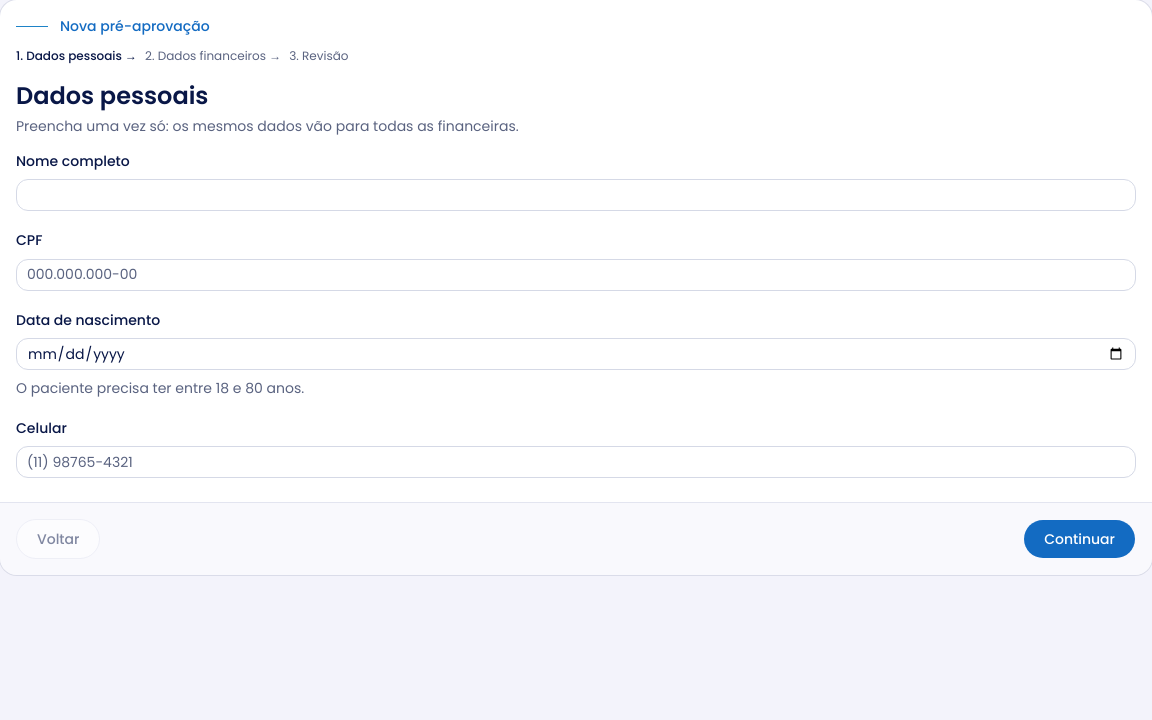
Scenario: RegistrationForm › does not move forward with invalid fields and does when they are valid
Click the button "Continuar". click: (1080, 539)
box: top-left (1023, 519), bottom-right (1136, 559)
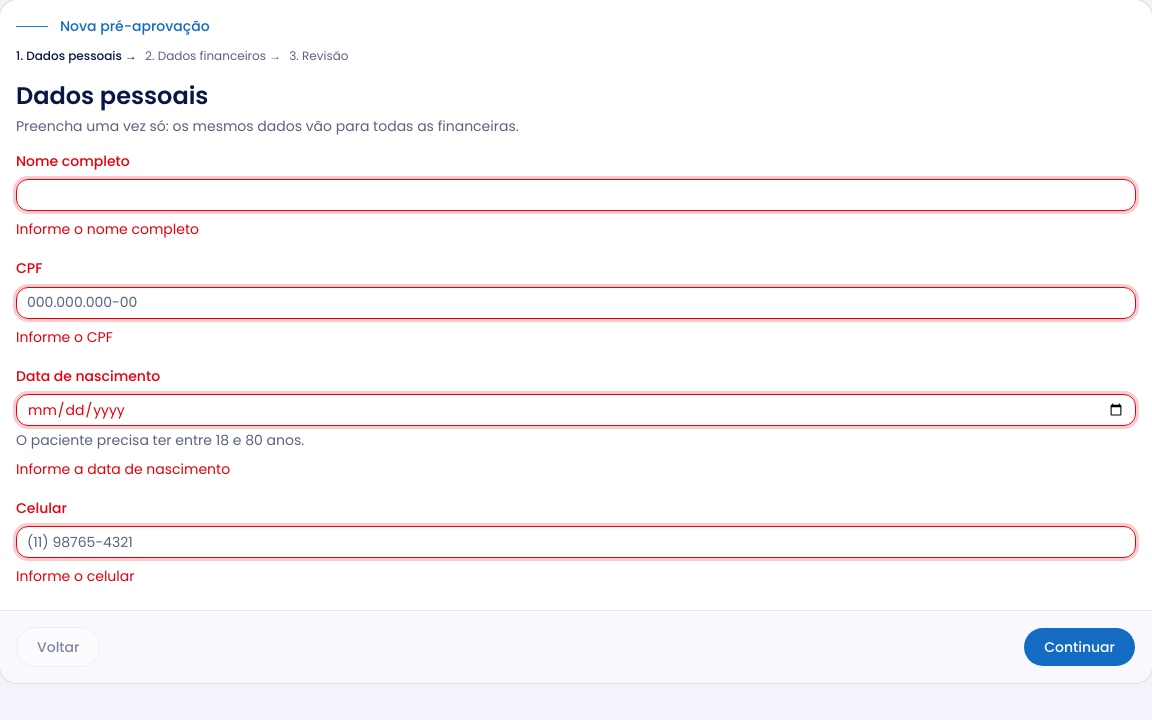
Expected: the heading "Dados pessoais" is shown, top-left (16, 79), bottom-right (208, 112)
Expected: the text "Informe o nome completo" is shown, top-left (16, 219), bottom-right (199, 239)
Type "Maria da Silva" into the field labelled "Nome completo". click: (576, 195)
box: top-left (16, 179), bottom-right (1136, 211)
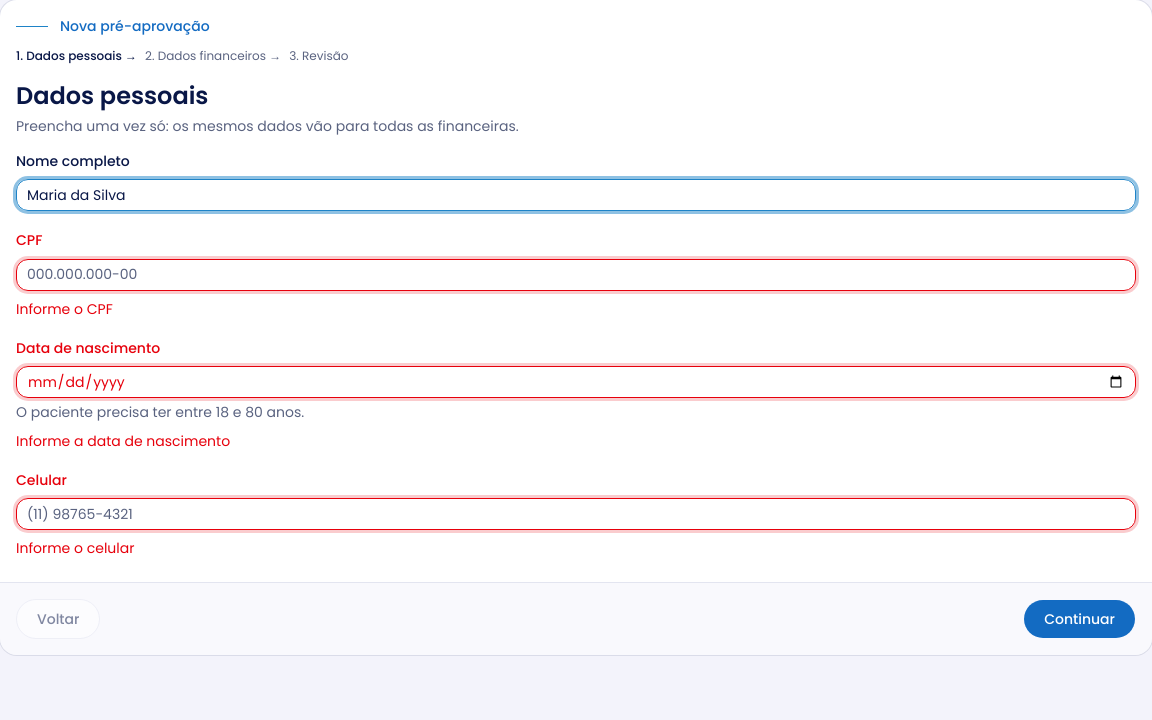
Type "52998224725" into the field labelled "CPF". click: (576, 274)
box: top-left (16, 258), bottom-right (1136, 290)
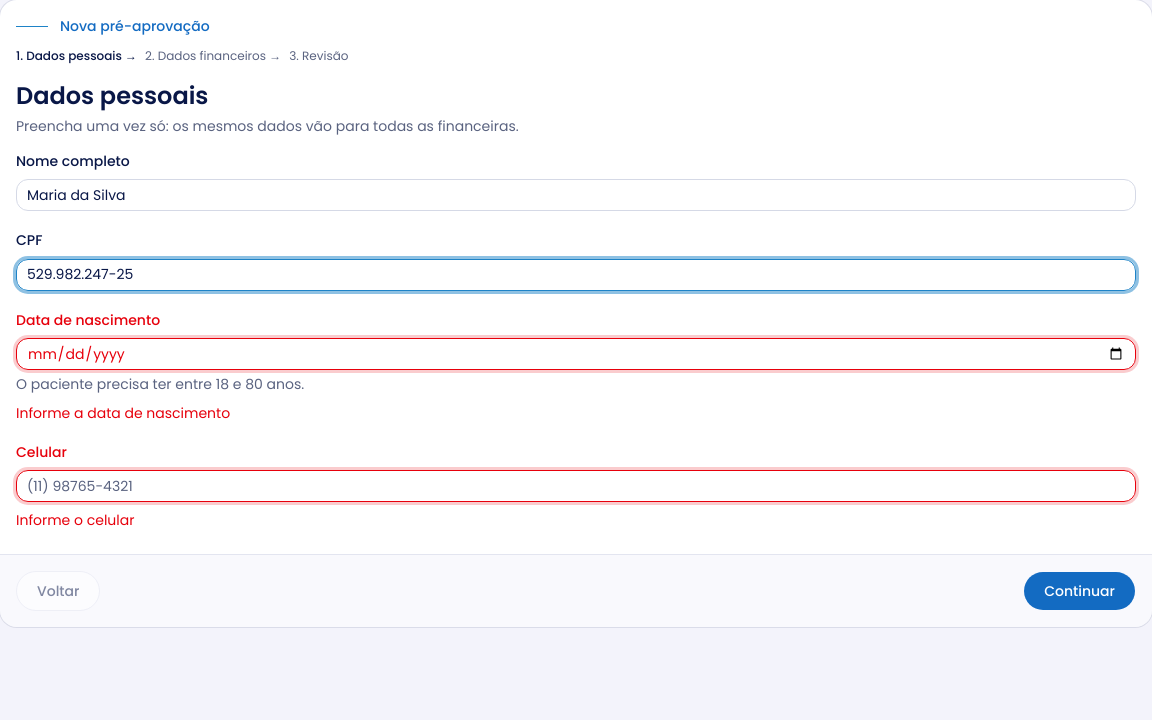
Type "1990-05-10" into the date field labelled "Data de nascimento". click: (576, 354)
box: top-left (16, 338), bottom-right (1136, 370)
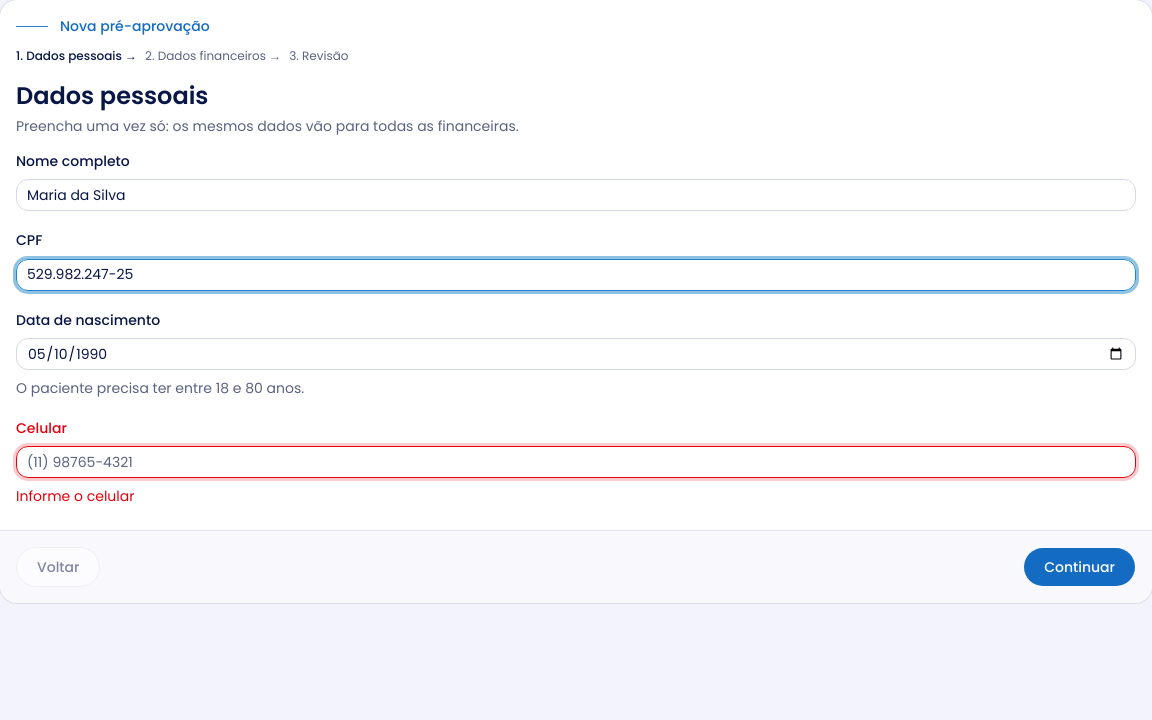
Type "11987654321" into the field labelled "Celular". click: (576, 462)
box: top-left (16, 446), bottom-right (1136, 478)
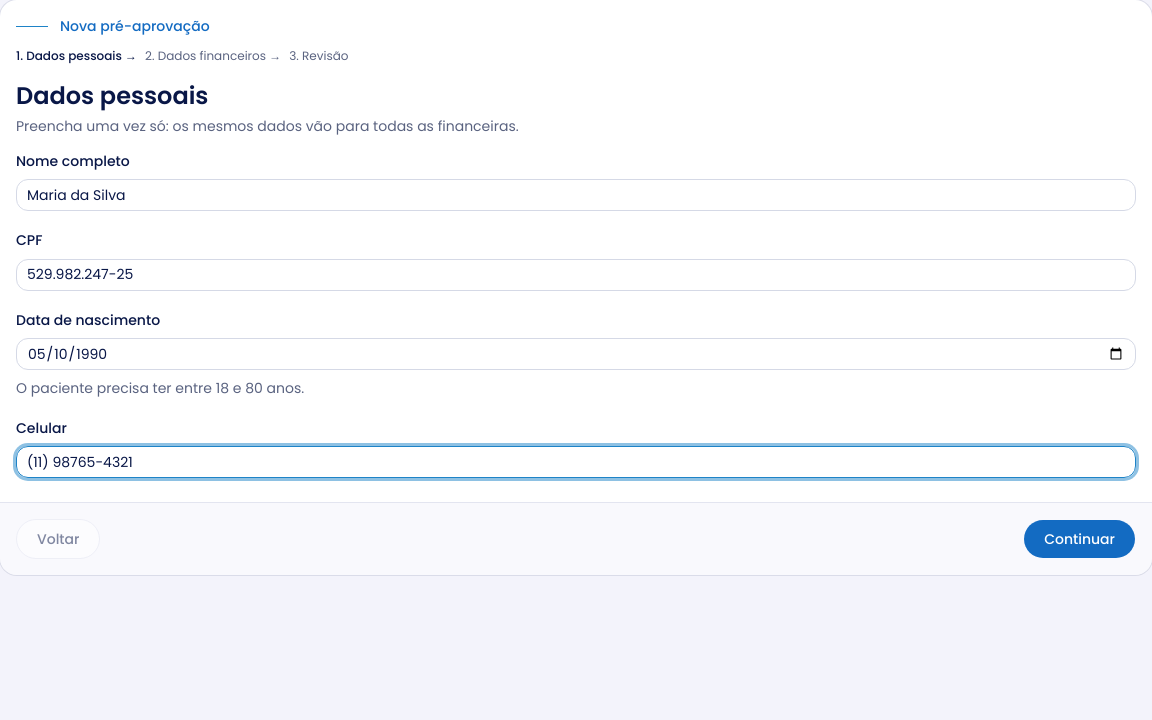
Click the button "Continuar". click: (1080, 539)
box: top-left (1023, 519), bottom-right (1136, 559)
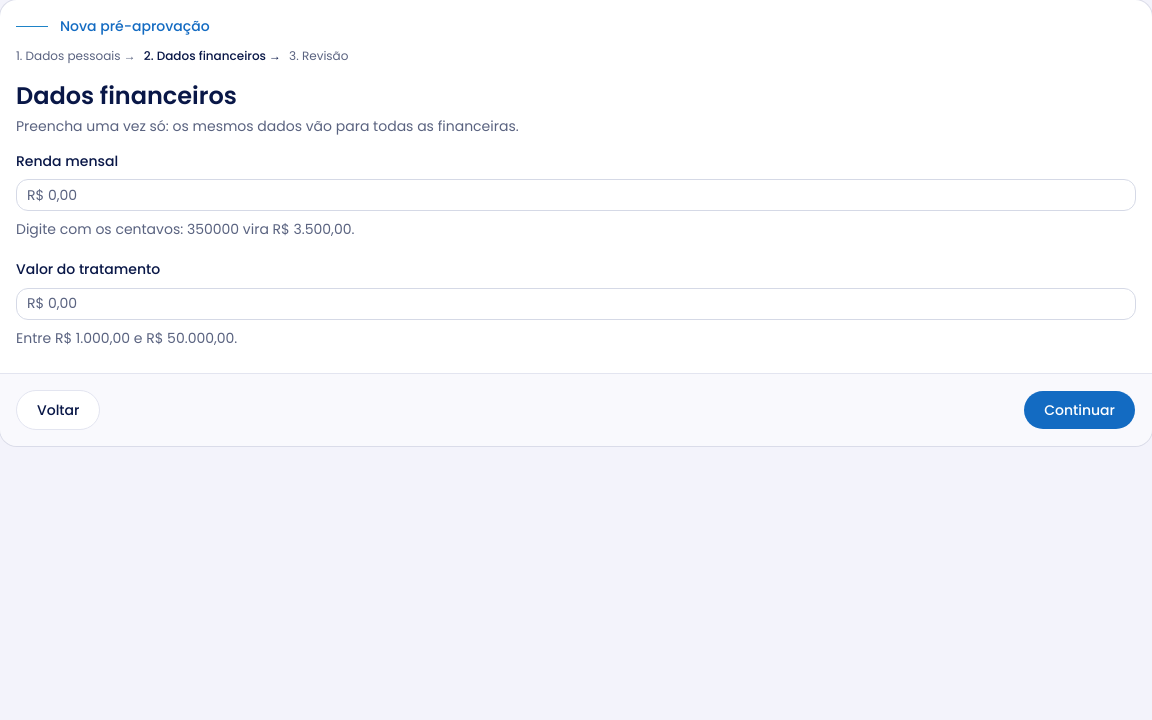
Expected: the heading "Dados financeiros" is shown, top-left (16, 79), bottom-right (237, 112)
